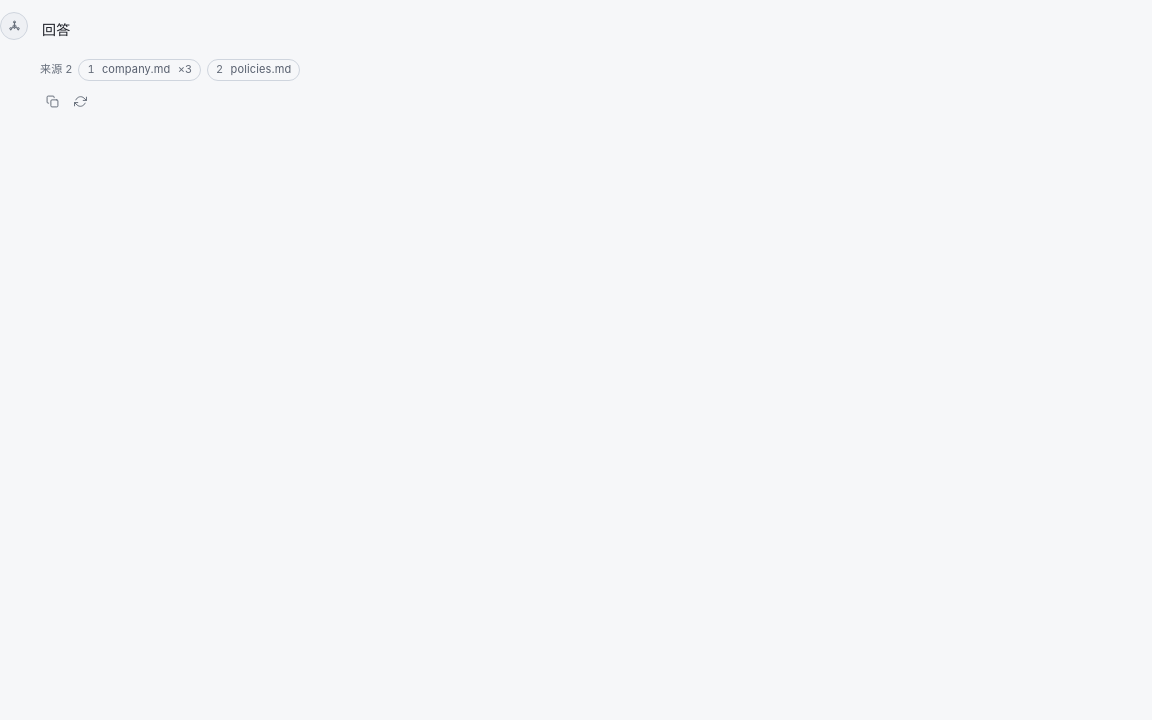
Scenario: MessageItem streaming render › 来源 chips 显示数量与文件名，点击后在应用内预览
This screenshot has width=1152, height=720.
Click the link "1 company.md ×3" at (140, 70), box x1=78 y1=59 x2=201 y2=81
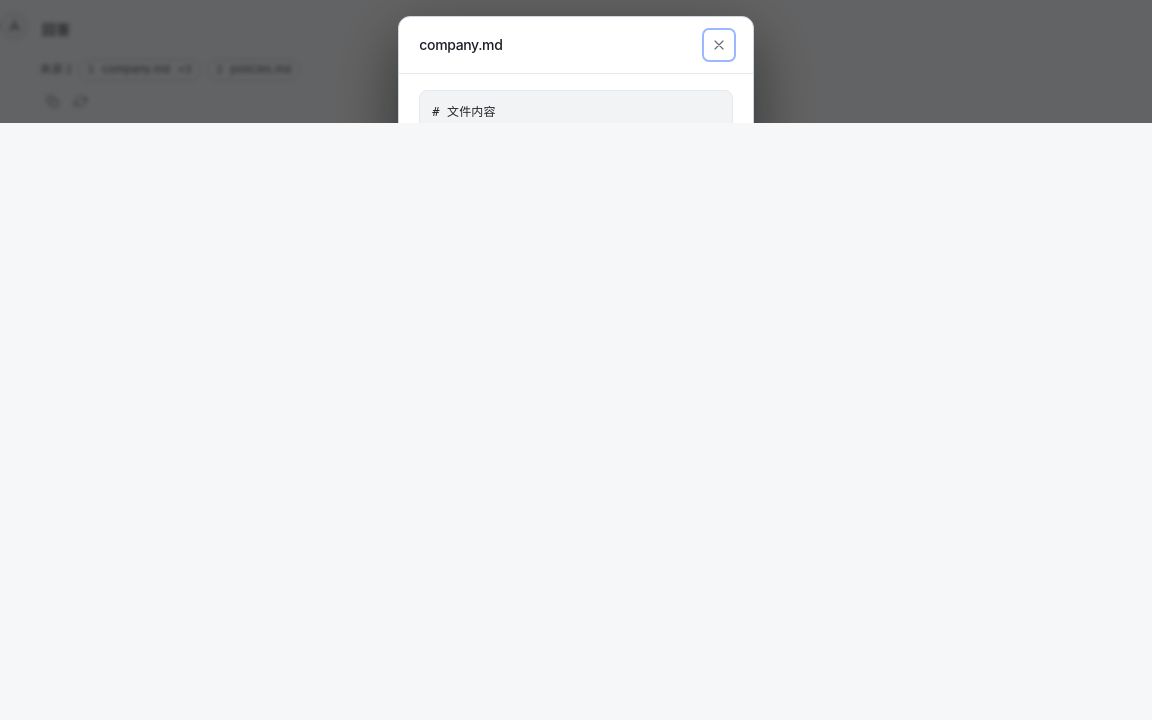
Check: the text "文件内容" is shown, box x1=432 y1=105 x2=496 y2=138
Check: the dialog is shown, box x1=398 y1=16 x2=754 y2=225
